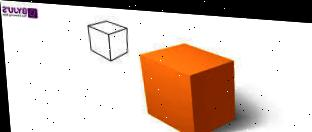cube: (138, 39, 237, 132)
